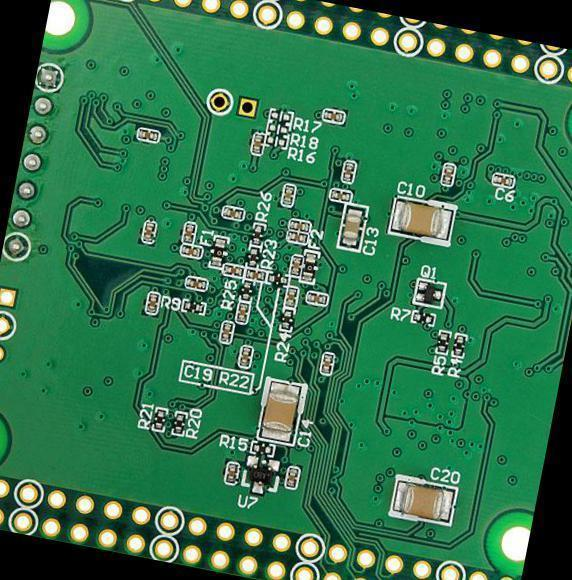Capacitor: (387, 194, 455, 243), (391, 475, 457, 525), (256, 377, 305, 444), (338, 203, 368, 250), (491, 170, 518, 188), (244, 267, 267, 284)
Connector: (0, 468, 521, 579), (53, 0, 571, 100), (0, 277, 30, 372), (202, 86, 262, 125)
IC: (243, 454, 281, 491)
Inductor: (298, 248, 319, 284), (208, 235, 229, 269)
Pads: (269, 106, 294, 123), (265, 120, 291, 135), (264, 133, 289, 148)
Pins: (0, 57, 68, 269)
Resistor: (169, 409, 188, 437), (278, 306, 296, 332), (250, 440, 275, 457), (410, 310, 436, 326), (151, 405, 167, 431), (237, 279, 254, 303), (265, 271, 290, 287), (181, 299, 206, 315), (451, 333, 467, 357), (251, 221, 266, 246), (246, 244, 262, 267), (436, 329, 450, 354)
Transistor: (413, 278, 445, 308)
